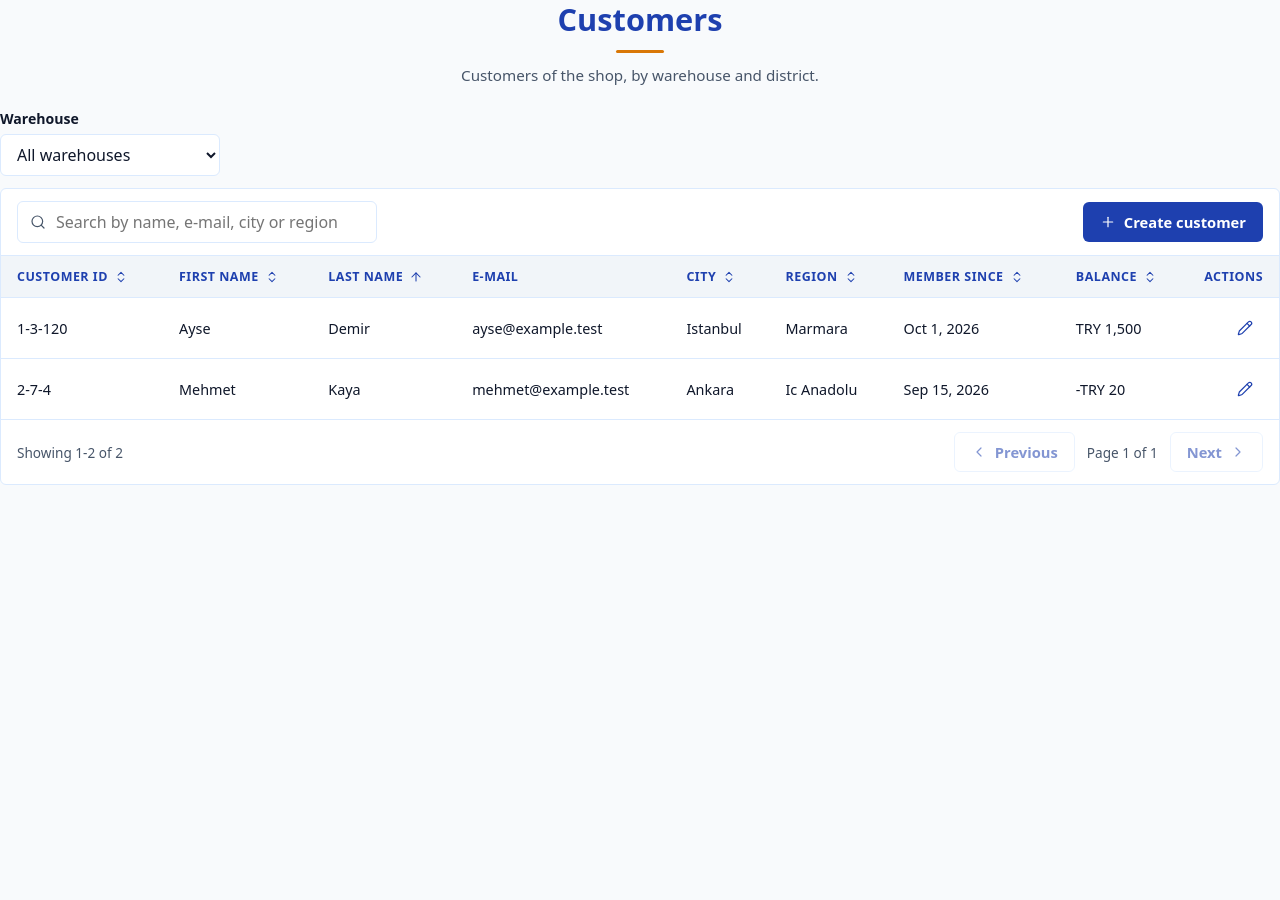
Scenario: the create form reports every required field and sends nothing
Expected: the text "Ayse" is shown, [163,298,312,359]
What coordinates should you click on to do the following:
click the button "Create customer"
I would click on:
 (1173, 222)
Its box is [1083,202,1263,242].
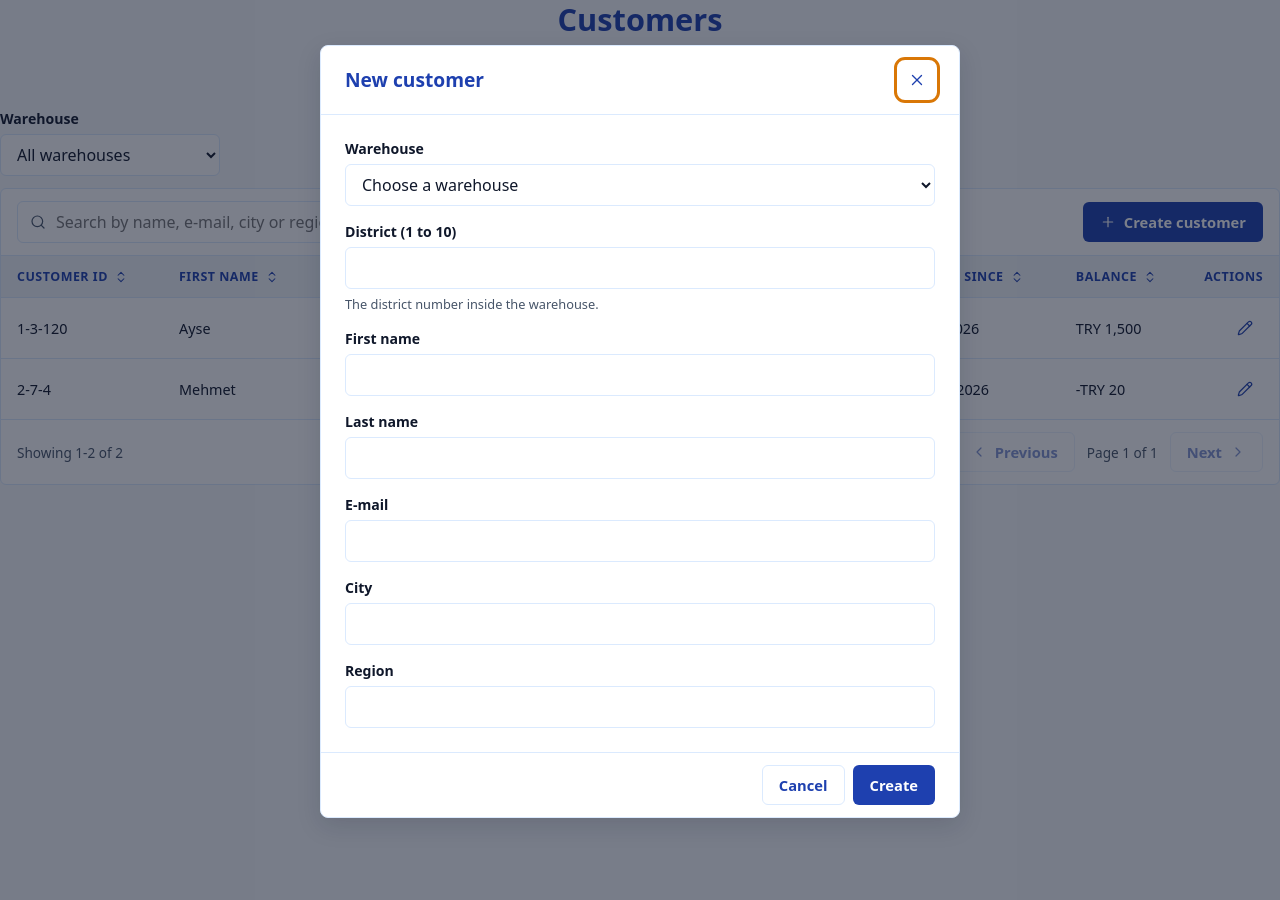
What coordinates should you click on to do the following:
click the button "Create"
I would click on:
 (894, 785)
Its box is [852,765,935,805].
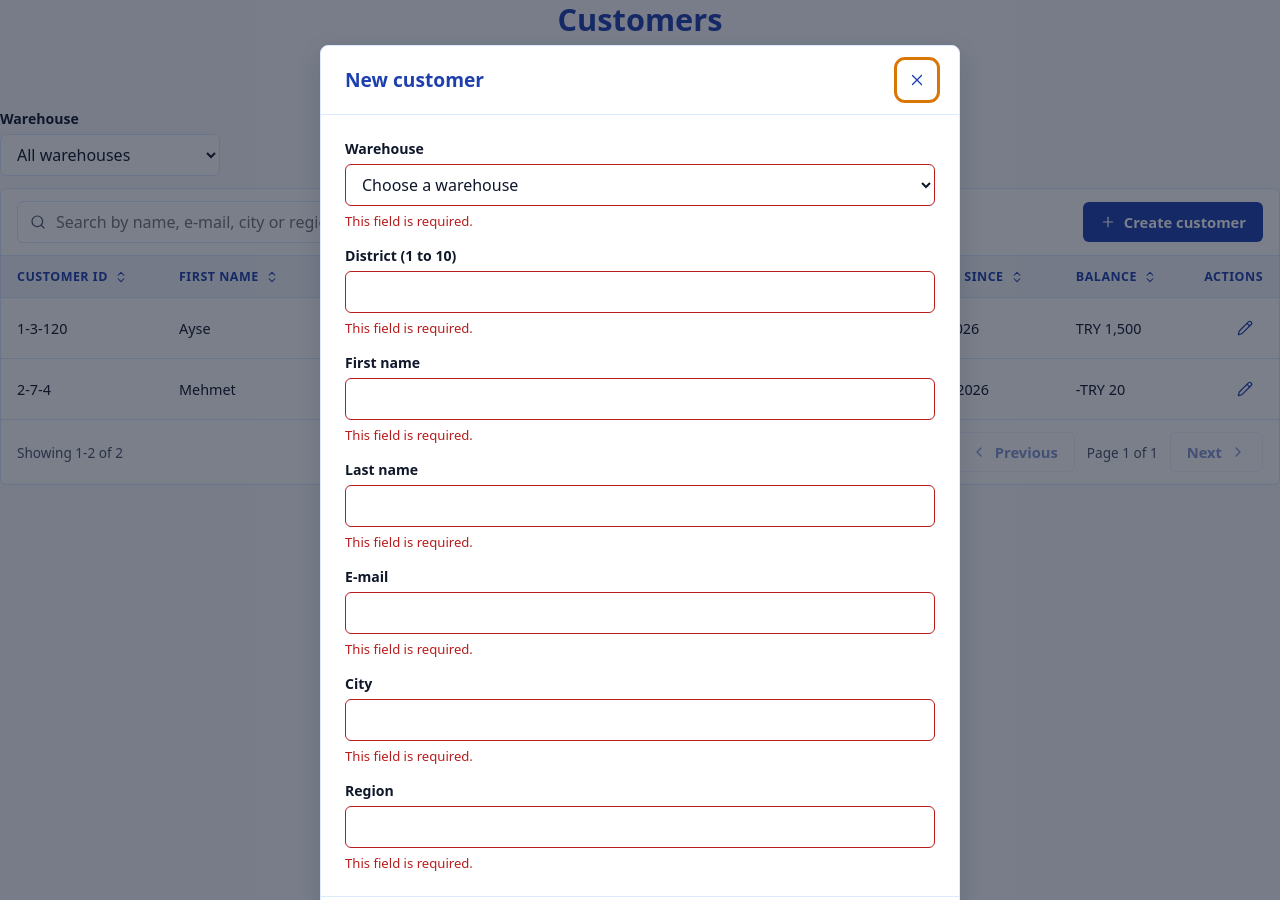
Expected: the text "This field is required." is shown 7 times
